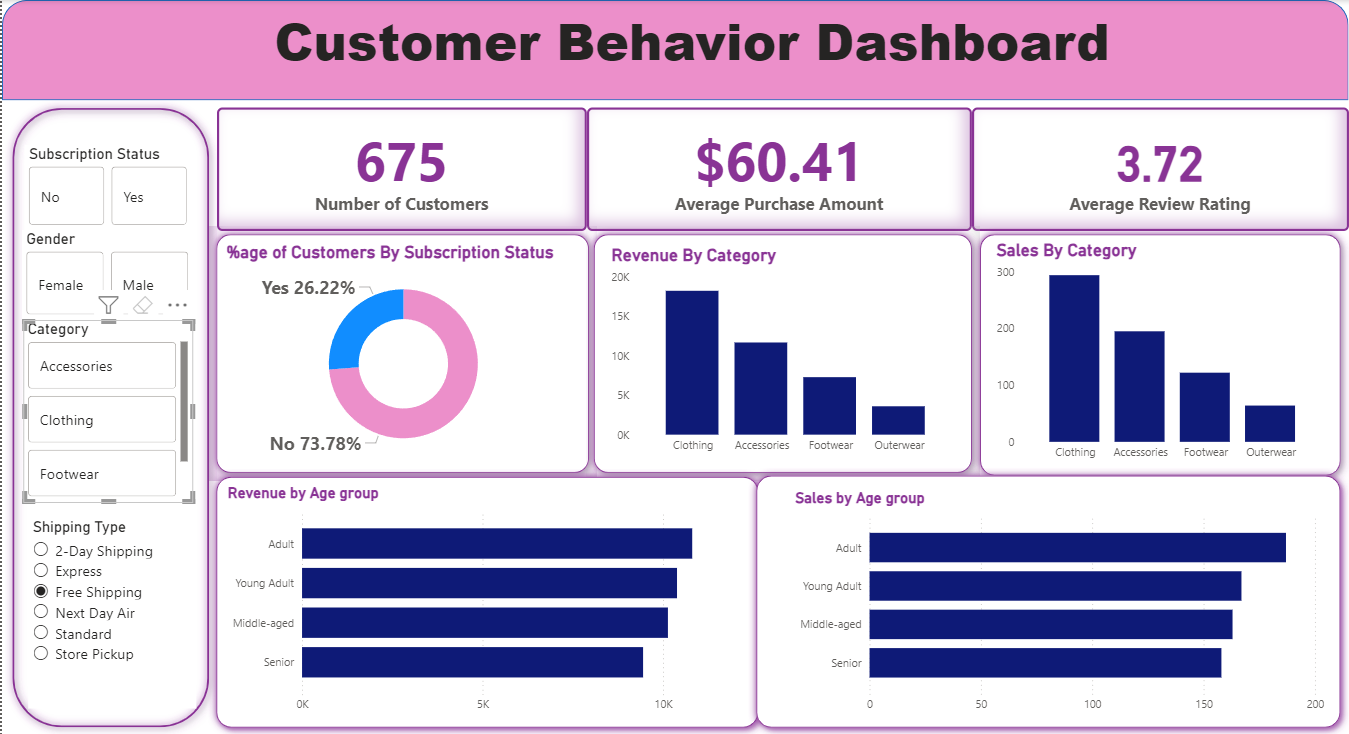

What the dashboard file says about the page in this screenshot:
{"tool":"powerbi","page":{"name":"1","canvas":[1500,820],"ordinal":0},"visuals":[{"type":"card","fields":{"Values":["customer.Number of Customers"]},"box":[240,119.2,412.1,137.4],"z":0},{"type":"card","fields":{"Values":["customer.Average Purchase Amount"]},"box":[652,119.2,428.7,137.4],"z":1},{"type":"card","fields":{"Values":["customer.Average Review Rating"]},"box":[1080.7,119.2,419.6,137.4],"z":2},{"type":"shape","box":[0,0,1500.3,111.7],"z":3},{"type":"textbox","box":[52.8,0,1447.5,111.7],"z":4},{"type":"shape","box":[229.4,252.1,433.2,283.8],"z":5},{"type":"donutChart","title":"%age of Customers By Subscription Status","fields":{"Category":["customer.subscription_status"],"Y":["Count(customer.customer_id)"]},"box":[244.5,270.2,404.5,249],"z":6},{"type":"shape","box":[650.5,252.1,439.2,283.8],"z":7},{"type":"shape","box":[1080.7,252.1,419.6,286.8],"z":8},{"type":"clusteredColumnChart","title":"Revenue By Category","fields":{"Y":["Sum(customer.purchase_amount)"],"Category":["customer.category"]},"box":[674.7,273.2,392.4,241.5],"z":9},{"type":"clusteredColumnChart","title":"Sales By Category","fields":{"Category":["customer.category"],"Y":["Count(customer.customer_id)"]},"box":[1103.3,267.2,374.3,255.1],"z":10},{"type":"shape","box":[3,111.7,237,707.9],"z":11},{"type":"advancedSlicerVisual","fields":{"Values":["customer.subscription_status"]},"box":[25.7,161.5,187.2,95.1],"z":12},{"type":"advancedSlicerVisual","fields":{"Values":["customer.gender"]},"box":[22.6,256.6,190.2,99.6],"z":13},{"type":"advancedSlicerVisual","fields":{"Values":["customer.category"]},"box":[24.1,356.2,188.7,203.8],"z":14},{"type":"listSlicer","fields":{"Values":["customer.shipping_type"]},"box":[28.7,576.6,187.2,212.8],"z":15},{"type":"shape","box":[229.4,522.2,621.9,297.3],"z":18},{"type":"clusteredBarChart","title":"Revenue by Age group","fields":{"Y":["Sum(customer.purchase_amount)"],"Category":["customer.age_group"]},"box":[246,538.8,585.6,264.1],"z":20},{"type":"shape","box":[831.7,520.7,668.6,298.9],"z":21},{"type":"clusteredBarChart","title":"Sales by Age group","fields":{"Category":["customer.age_group"],"Y":["CountNonNull(customer.customer_id)"]},"box":[878.4,544.9,599.2,258.1],"z":22}]}

Visuals, with their boxes in screenshot pixels (x1, y1, x2, y2), scaled from the page's 1500x820 canvas onto the 1349x734 screenshot:
card - customer.Number of Customers: crop(216, 107, 586, 230)
card - customer.Average Purchase Amount: crop(586, 107, 972, 230)
card - customer.Average Review Rating: crop(972, 107, 1348, 230)
shape: crop(0, 0, 1348, 100)
textbox: crop(47, 0, 1348, 100)
shape: crop(206, 226, 596, 480)
"%age of Customers By Subscription Status" donutChart: crop(220, 242, 584, 465)
shape: crop(585, 226, 980, 480)
shape: crop(972, 226, 1348, 482)
"Revenue By Category" clusteredColumnChart: crop(607, 245, 960, 461)
"Sales By Category" clusteredColumnChart: crop(992, 239, 1329, 468)
shape: crop(3, 100, 216, 733)
advancedSlicerVisual - customer.subscription_status: crop(23, 145, 191, 230)
advancedSlicerVisual - customer.gender: crop(20, 230, 191, 319)
advancedSlicerVisual - customer.category: crop(22, 319, 191, 501)
listSlicer - customer.shipping_type: crop(26, 516, 194, 707)
shape: crop(206, 467, 766, 733)
"Revenue by Age group" clusteredBarChart: crop(221, 482, 748, 719)
shape: crop(748, 466, 1348, 733)
"Sales by Age group" clusteredBarChart: crop(790, 488, 1329, 719)
